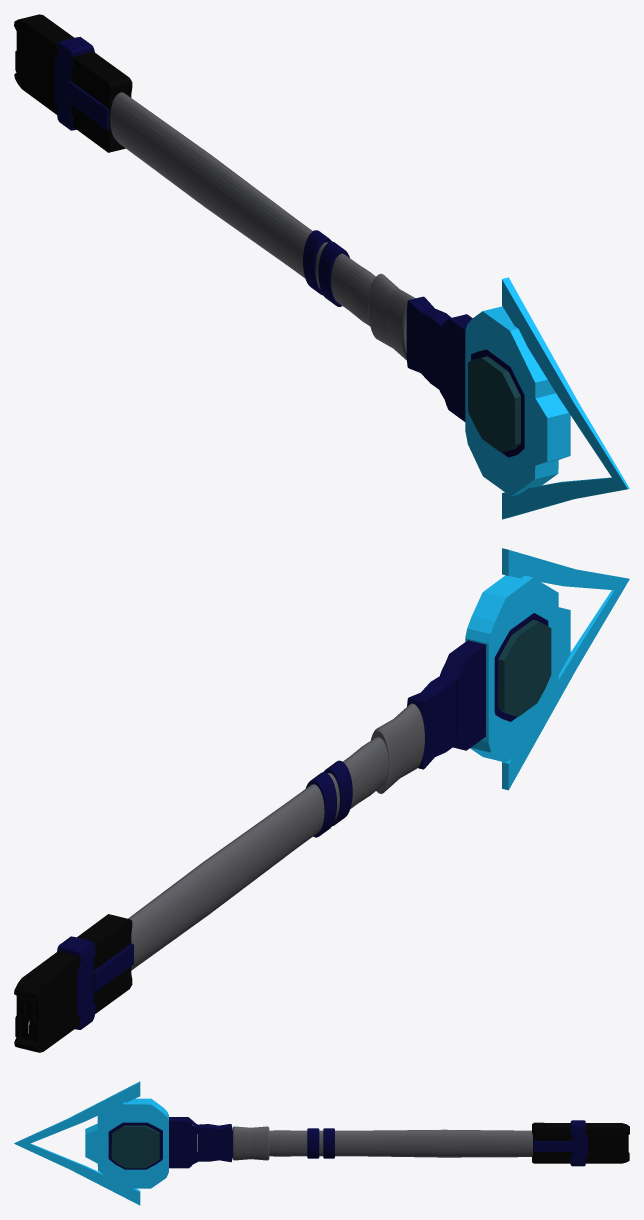
File: staff.glb
3 views of the same model, one above another, from view 1: azimuth 30°, elevation 25°; view 2: azimuth 150°, elevation 25°; view 3: azimuth 270°, elevation 25° (orthographic). The views are drawn at different scales.
Visible parts, largest first — view 1: Cylinder.021; view 2: Cylinder.021; view 3: Cylinder.021.
Boxes of the visible parts, x1,y1,x2,y2 form: Cylinder.021: [14, 14, 629, 519]; Cylinder.021: [14, 548, 629, 1052]; Cylinder.021: [14, 1081, 629, 1205].
Bounding box in the file's own units: 0.0525 × 0.3297 × 1.5.
